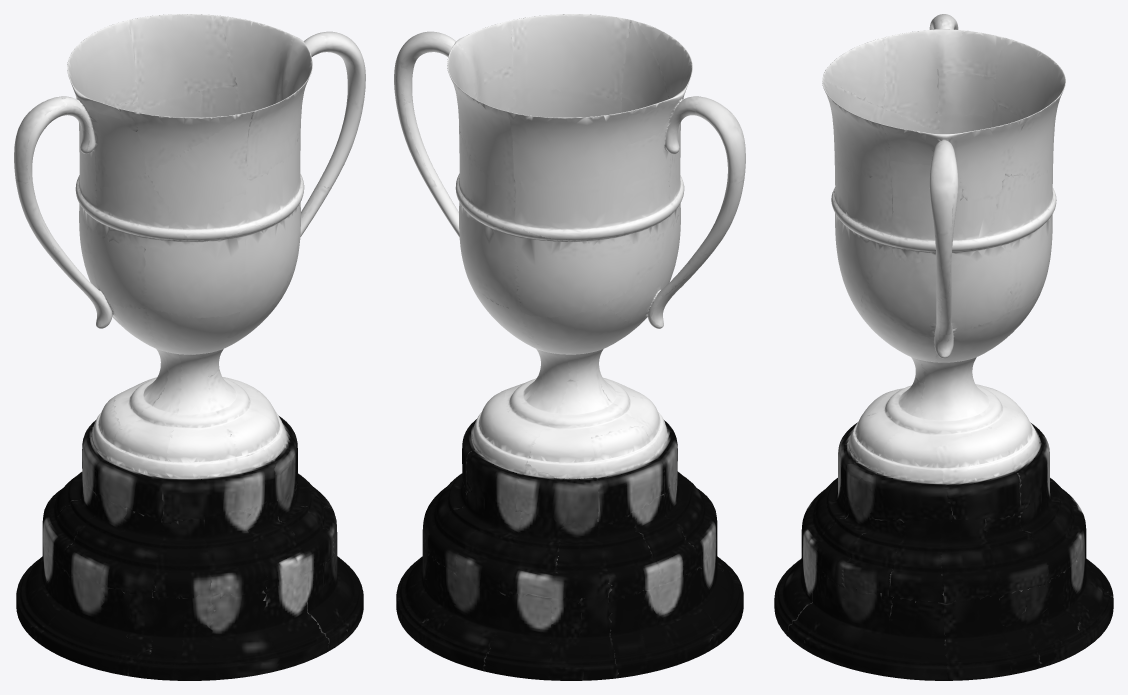
Rendered from sultan-hussein-cup.mobile.glb.
3 renders of one model, left to right at view 1: azimuth 30°, elevation 25°; view 2: azimuth 150°, elevation 25°; view 3: azimuth 270°, elevation 25°, orthographic. The views are drawn at different scales.
Parts seen in each view (by area): view 1: mesh_node; view 2: mesh_node; view 3: mesh_node.
Part boxes in pixels (x1,y1,x2,y2): mesh_node: (14,14,365,680); mesh_node: (394,14,745,680); mesh_node: (774,14,1113,680).
Size of the model in its own units: 1.28 by 1.9 by 1.1.
Materials: 1 (1 with a texture image).
